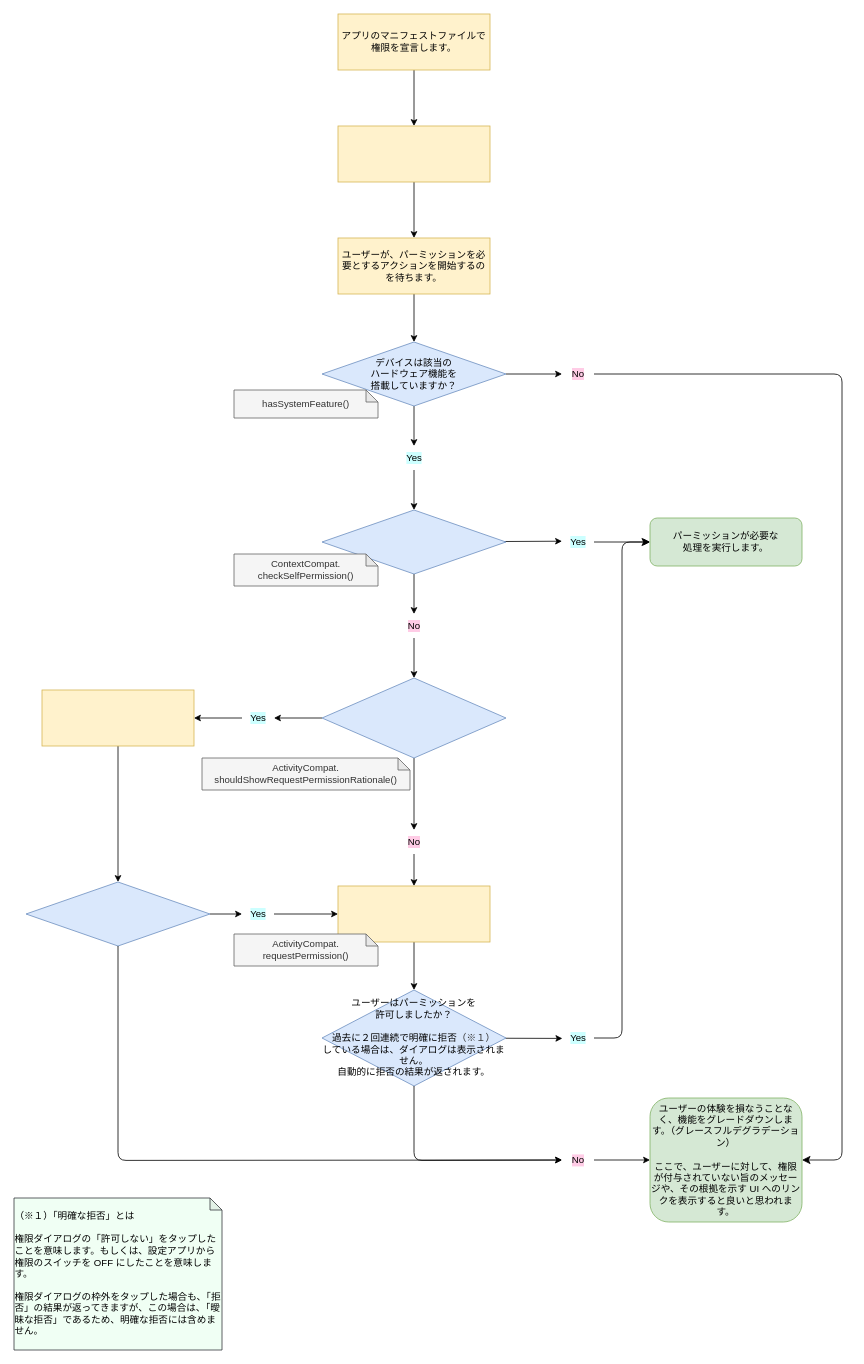
Some shapes in this 864 by 1364 pixel diagram are drawn without their labels. Here are the shapes that lost their labels. From the top down, the box of each, then its label:
(337, 125, 490, 182): 実行時パーミッションが必要となる直前でパーミッションの要求が出せるような UX を設計します。
(321, 509, 506, 574): パーミッションは 既に付与されていますか?
(41, 689, 194, 746): 「なぜパーミッションが必要なのか」をユーザーに説明します。
(321, 677, 506, 758): ユーザーにパーミッションが 必要となる根拠を示しますか？ （ユーザーが前回のリクエストで 初めて権限を明確に拒否（※１）したか？
(25, 881, 210, 946): ユーザーは肯定的な リアクションをしたか？ （選択を拒否する導線も用意すること）
(337, 885, 490, 942): パーミッションを リクエストします。
